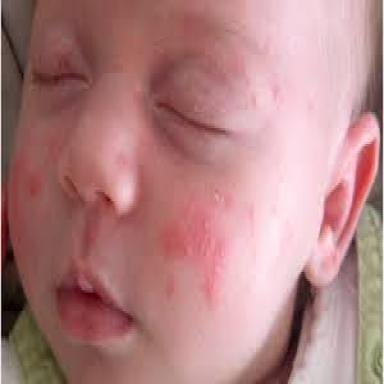burn: (161, 203, 227, 306), (17, 210, 65, 309), (91, 181, 177, 222), (52, 178, 88, 210), (265, 201, 283, 222), (124, 101, 137, 128), (37, 165, 46, 201), (26, 178, 35, 201), (164, 274, 173, 295)
